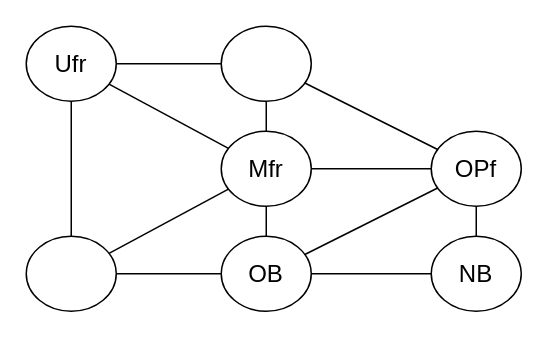
Some shapes in this 548 by 338 pixel diagram are drawn without their labels. The shapes that lost their labels are listed below. From the top down, each one's centre as x and y in pixels, then its label:
[265,63]: Ofr
[70,273]: Schw
